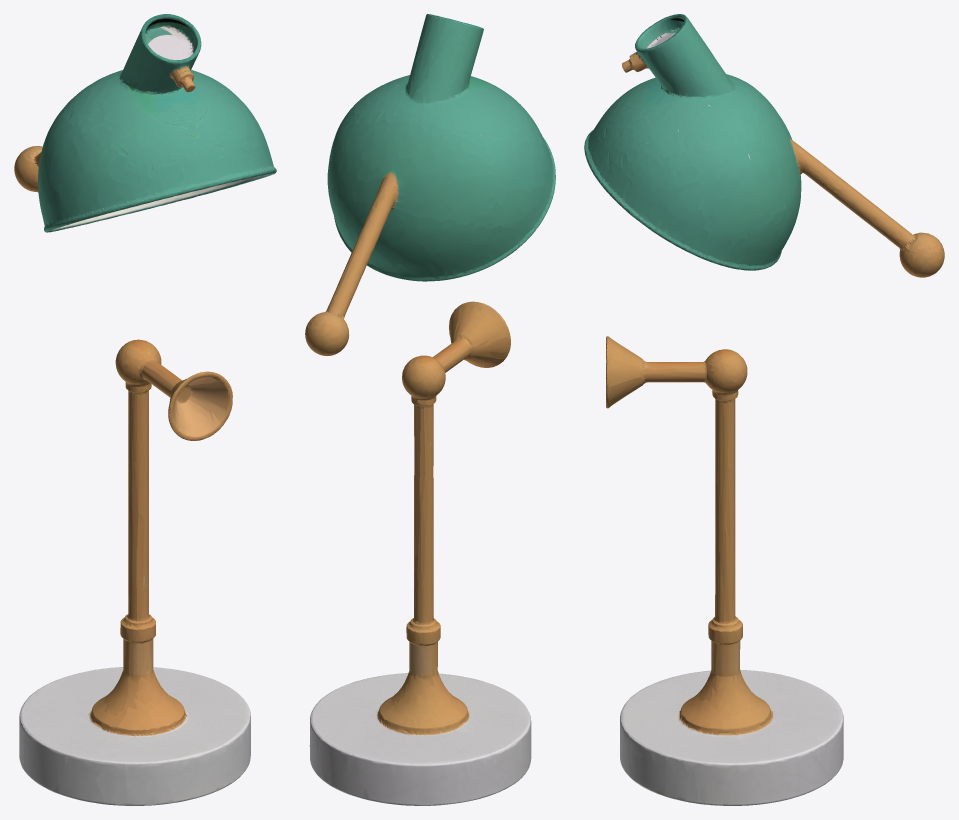
Rendered from lamba.glb.
3 views of the same model, side by side, from view 1: azimuth 30°, elevation 25°; view 2: azimuth 150°, elevation 25°; view 3: azimuth 270°, elevation 25° (orthographic). The views are drawn at different scales.
Bounding box in the file's own units: 0.5476 × 1.9 × 0.8377.
Materials: 1 (1 with a texture image).
